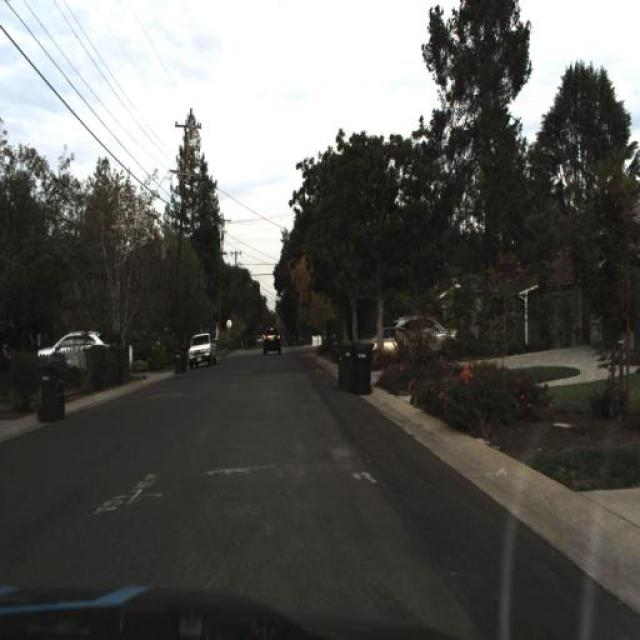car: (34, 328, 117, 371), (40, 320, 109, 368), (389, 312, 460, 347), (362, 318, 409, 357), (178, 328, 220, 369), (186, 330, 220, 370), (260, 322, 285, 361)
